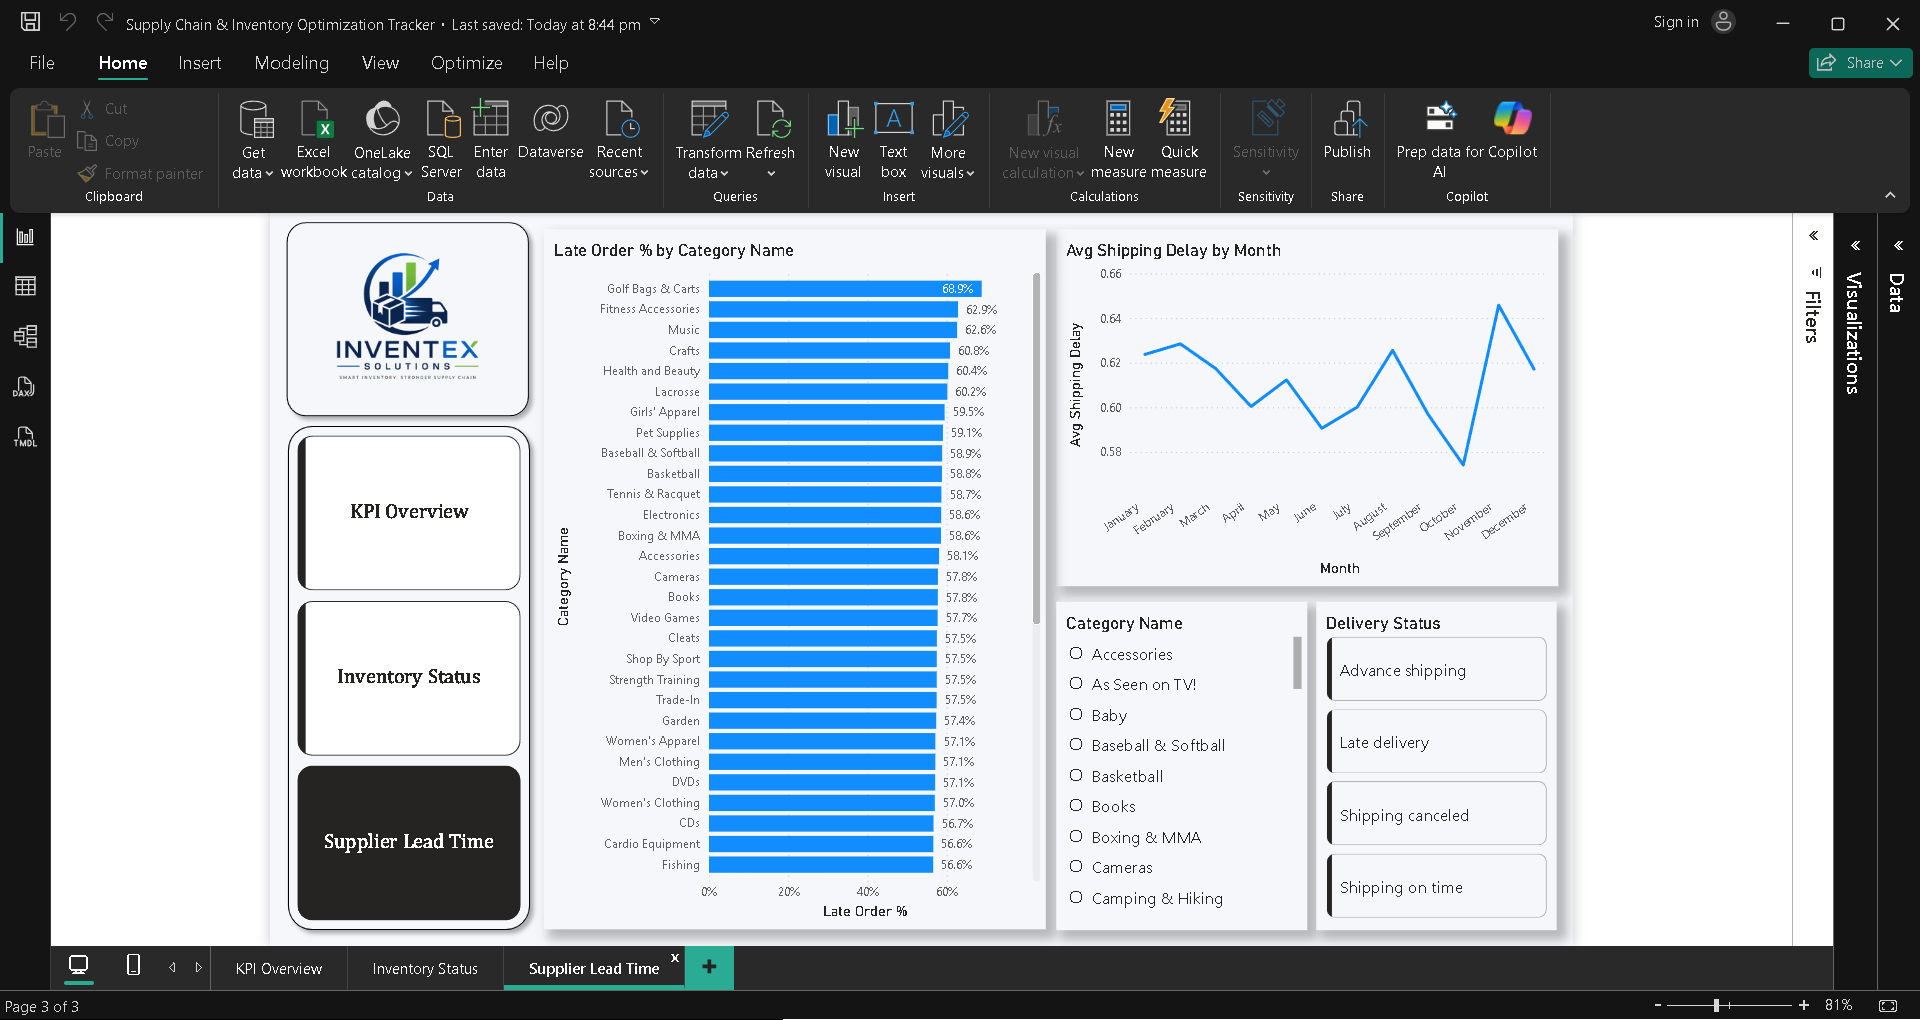

This screenshot's page, from the dashboard's own definition file:
{"tool":"powerbi","page":{"name":"Supplier Lead Time","canvas":[1280,720],"ordinal":2},"visuals":[{"type":"shape","box":[7.1,0,255.7,208.6],"z":0},{"type":"image","box":[23.3,16.7,222.7,174],"z":1000},{"type":"shape","box":[8.6,200,255.7,512.9],"z":2000},{"type":"pageNavigator","box":[27,219,219,476],"z":3000},{"type":"lineChart","fields":{"Y":["supply_chain_db supply_chain_data.Avg Shipping Delay"],"Category":["supply_chain_db supply_chain_data.order date (DateOrders).Variation.Date Hierarchy.Month"]},"box":[771.2,16.2,492.5,350],"z":4000},{"type":"barChart","fields":{"Category":["supply_chain_db supply_chain_data.Category Name"],"Y":["supply_chain_db supply_chain_data.Late Order %"]},"box":[268.8,16.2,492.5,687.5],"z":5000},{"type":"listSlicer","fields":{"Values":["supply_chain_db supply_chain_data.Category Name"]},"box":[771.2,381.2,246.2,322.5],"z":6000},{"type":"advancedSlicerVisual","fields":{"Values":["supply_chain_db supply_chain_data.Delivery Status"]},"box":[1027.5,381.2,236.2,322.5],"z":7000}]}

Visuals, with their boxes on the page's 1280x720 design canvas (x1, y1, x2, y2). These are canvas units, not pixel positions in the 1920x1020 screenshot, which may show the page scaled, cropped or inside an application window:
shape: 7:0:263:209
image: 23:17:246:191
shape: 9:200:264:713
pageNavigator: 27:219:246:695
lineChart - supply_chain_db supply_chain_data.Avg Shipping Delay x supply_chain_db supply_chain_data.order date (DateOrders).Variation.Date Hierarchy.Month: 771:16:1264:366
barChart - supply_chain_db supply_chain_data.Category Name x supply_chain_db supply_chain_data.Late Order %: 269:16:761:704
listSlicer - supply_chain_db supply_chain_data.Category Name: 771:381:1017:704
advancedSlicerVisual - supply_chain_db supply_chain_data.Delivery Status: 1028:381:1264:704
